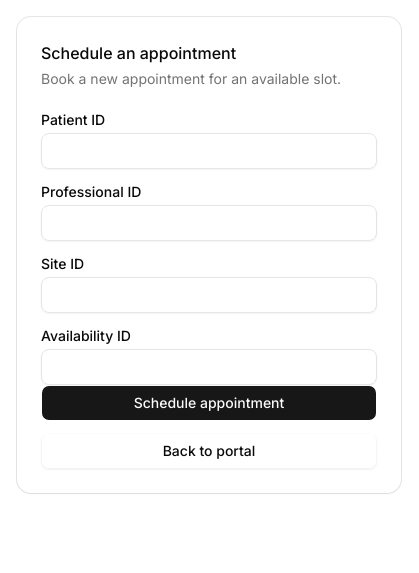
Test case: SchedulePage › validates that all fields are required before submitting
Click the button "Schedule appointment" at (209, 403), box x1=41 y1=385 x2=377 y2=421
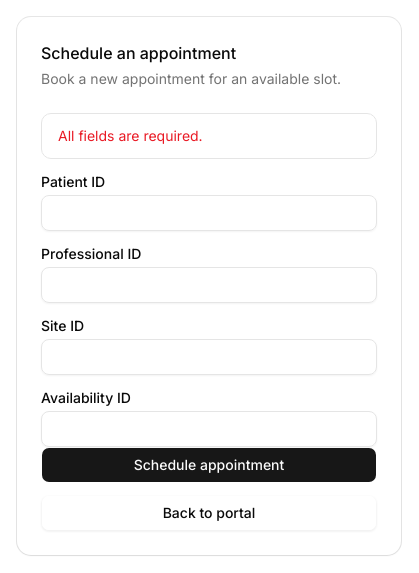
Result: the text "All fields are required." is shown at x1=58 y1=127 x2=203 y2=144
